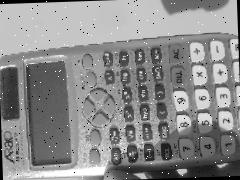electronic: (3, 0, 195, 180)
